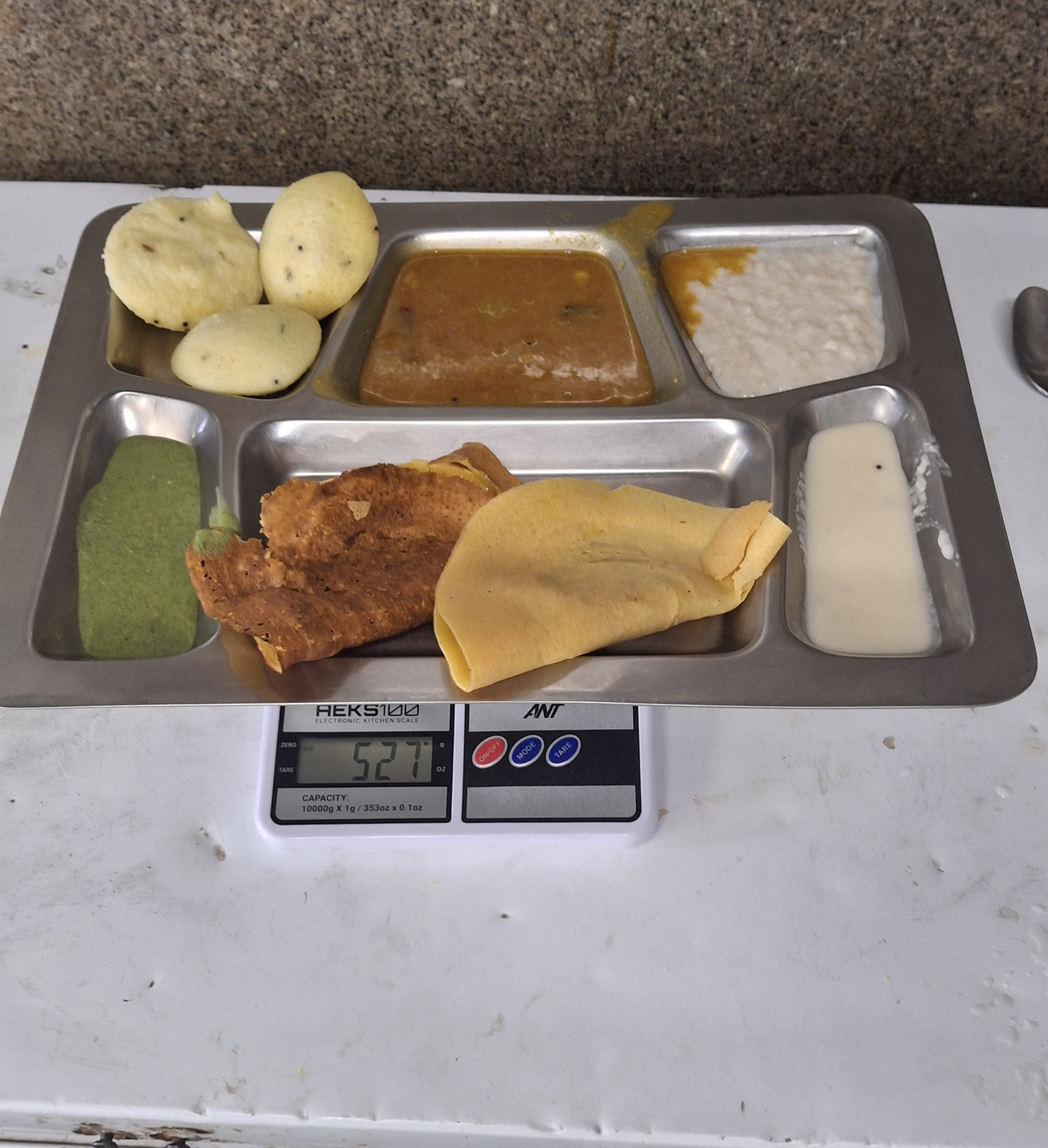bowl: (230, 412, 771, 693), (93, 167, 371, 387), (379, 227, 642, 413), (784, 403, 956, 666), (62, 408, 227, 671), (679, 224, 889, 393)
